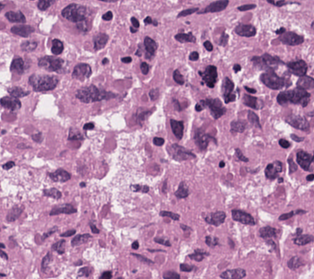nucleus: (75, 85, 116, 102), (199, 98, 225, 118), (29, 74, 58, 91), (251, 53, 281, 69), (260, 69, 284, 89), (167, 143, 195, 160), (38, 56, 63, 71), (231, 209, 254, 225), (194, 130, 211, 150), (222, 77, 235, 103), (201, 65, 216, 87), (72, 63, 91, 80), (133, 107, 152, 124), (265, 160, 282, 178), (204, 211, 225, 225), (144, 36, 157, 58), (48, 168, 70, 181), (49, 204, 75, 215), (0, 96, 20, 110), (10, 56, 26, 73), (6, 205, 23, 221), (170, 119, 183, 139), (188, 248, 208, 261), (220, 268, 245, 278), (131, 253, 153, 264), (8, 86, 28, 98), (71, 234, 91, 246), (258, 226, 276, 239), (93, 33, 107, 49), (243, 94, 259, 108), (41, 226, 57, 240), (247, 111, 260, 128), (175, 181, 188, 198), (41, 252, 51, 273), (42, 188, 61, 199), (175, 32, 195, 42), (20, 40, 37, 51), (51, 39, 63, 54), (230, 120, 245, 132), (159, 211, 179, 220), (235, 148, 248, 161), (52, 239, 64, 253), (68, 128, 83, 139), (77, 266, 91, 277), (130, 184, 148, 192), (154, 237, 170, 246), (205, 235, 218, 246), (173, 70, 183, 84), (163, 271, 179, 278), (218, 33, 227, 45), (140, 62, 149, 74), (149, 88, 158, 100), (60, 229, 75, 236), (32, 132, 42, 142), (89, 222, 98, 233), (2, 161, 14, 169), (180, 264, 193, 271), (173, 99, 181, 110), (83, 122, 94, 130), (153, 137, 164, 145), (189, 51, 198, 60), (100, 271, 111, 278), (204, 41, 212, 50), (245, 86, 255, 93), (0, 250, 7, 259), (121, 56, 131, 62), (180, 224, 190, 230), (233, 64, 240, 72), (195, 103, 202, 111), (131, 241, 138, 248), (136, 47, 141, 55), (163, 180, 166, 192), (102, 58, 107, 64), (219, 161, 224, 167), (80, 182, 85, 186), (0, 243, 4, 248), (278, 178, 282, 181)
